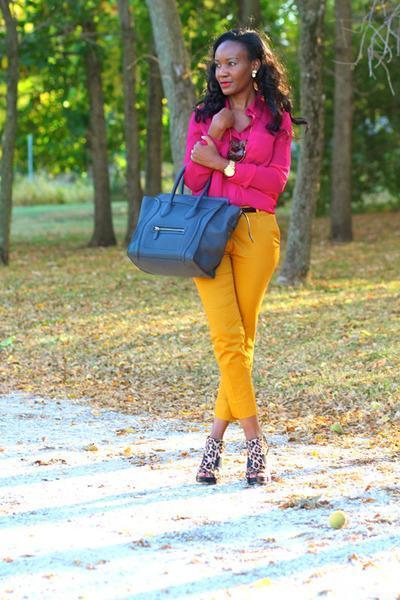bag: (125, 176, 255, 280)
pants: (194, 210, 280, 419)
shirt: (184, 102, 292, 212)
shoe: (180, 435, 266, 486)
